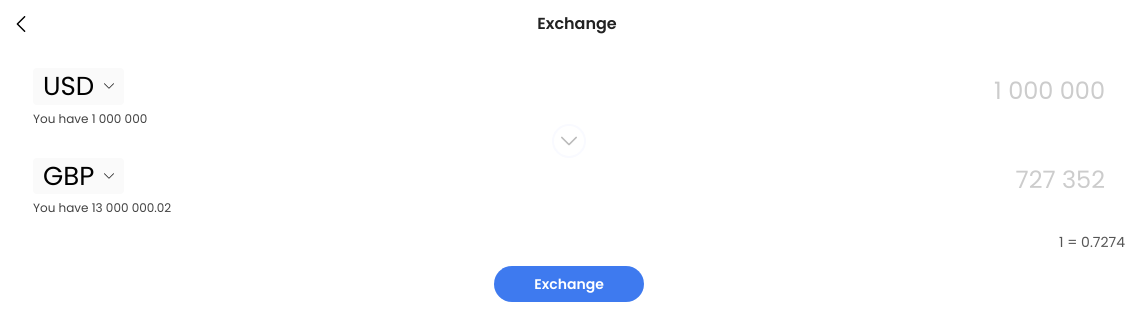
Exchange button should be enabled when to and from are filled
Type "1" into the field with test id "from-input".
click(615, 90); type("1")  # box [124, 78, 1105, 102]
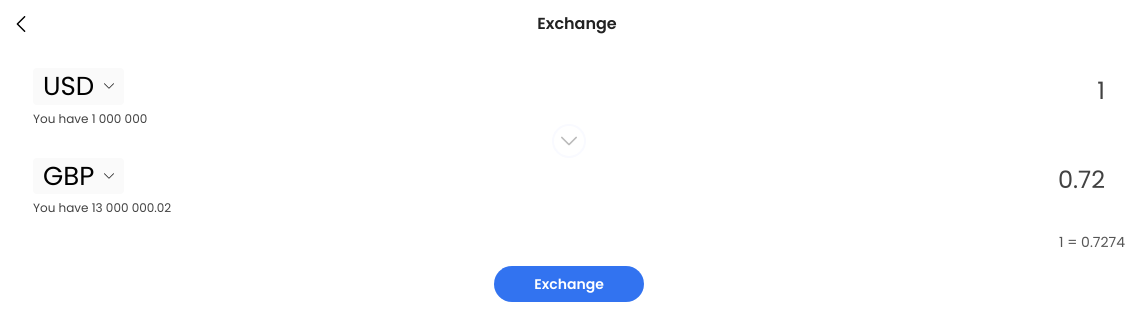
expect the button is enabled: met, box [494, 266, 644, 302]
expect the field with test id "to-input" is not empty: met, box [124, 168, 1105, 192]
